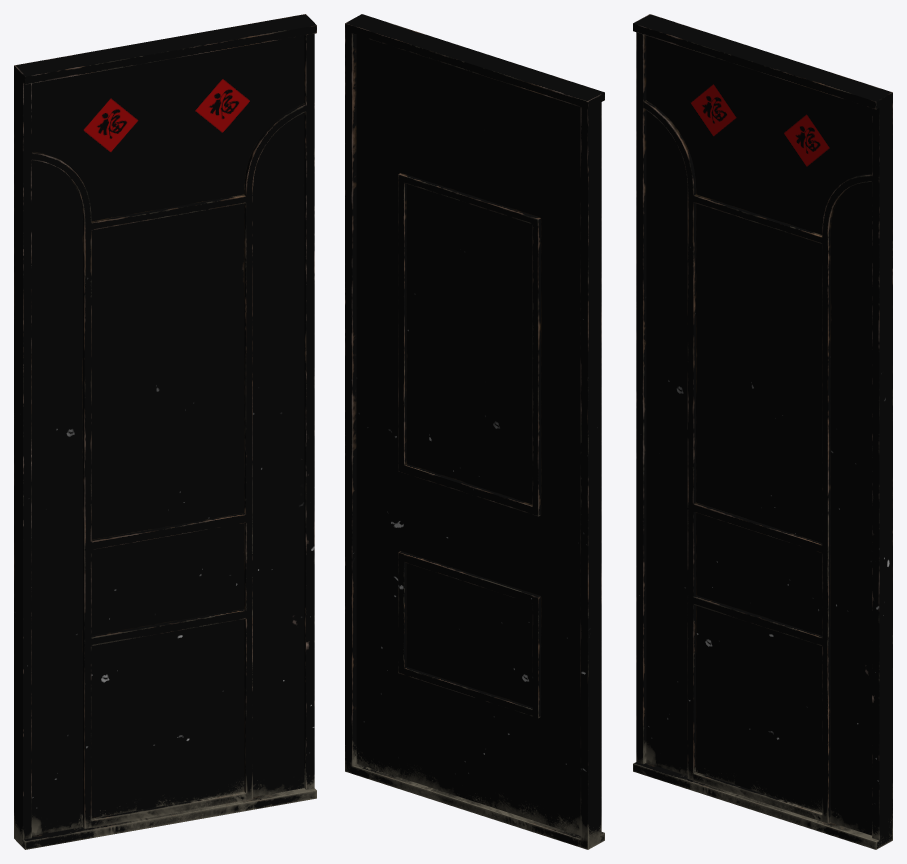
File: blackDoorPivot.fbx
The picture shows the model from 3 angles, left to right: view 1: azimuth 30°, elevation 25°; view 2: azimuth 150°, elevation 25°; view 3: azimuth 330°, elevation 25°; orthographic projection. The views are drawn at different scales.
Parts seen in each view (by area): view 1: door_low; view 2: door_low; view 3: door_low.
Boxes of the visible parts, bbox=[...] form: door_low: bbox=[14, 14, 316, 849]; door_low: bbox=[345, 14, 604, 849]; door_low: bbox=[633, 14, 892, 849].
Bounding box in the file's own units: 100 × 270 × 21.87.
